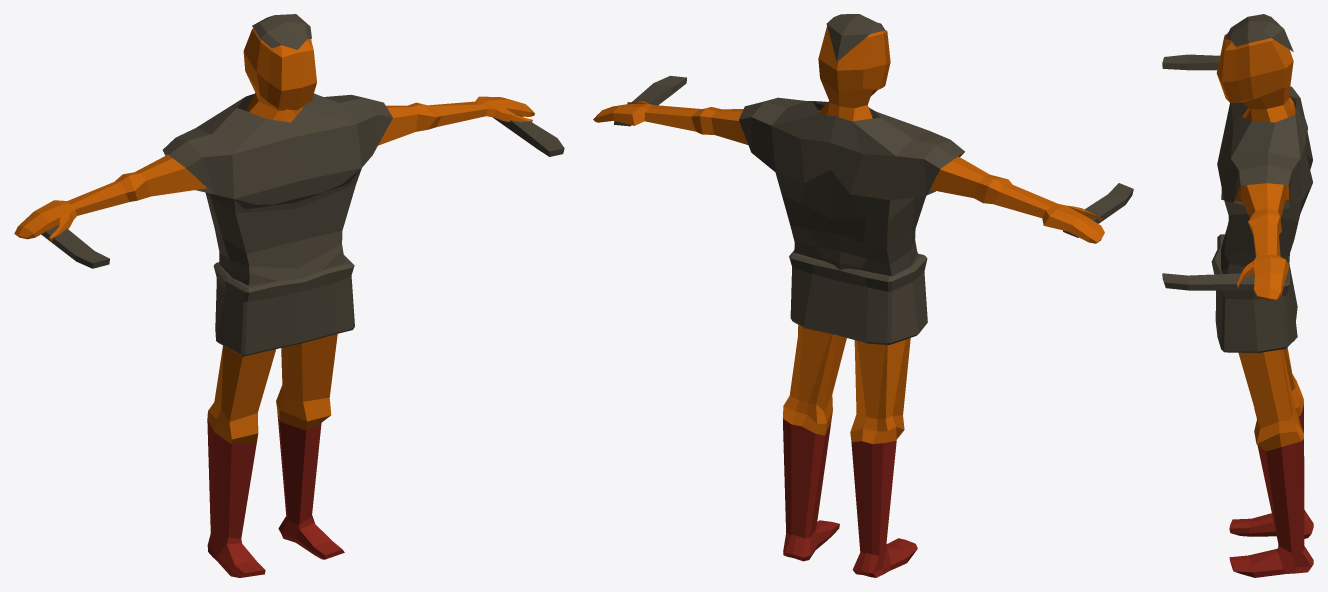
File: mergeHuman2.fbx
3 renders of one model, left to right at view 1: azimuth 30°, elevation 25°; view 2: azimuth 150°, elevation 25°; view 3: azimuth 270°, elevation 25°, orthographic. The views are drawn at different scales.
Parts seen in each view (by area): view 1: Cube; view 2: Cube; view 3: Cube.
Part boxes in pixels (box(x1,y1,x2,y2)): Cube: box(14, 14, 564, 577); Cube: box(593, 14, 1133, 577); Cube: box(1162, 14, 1313, 577).
Bounding box in the file's own units: 486 × 492 × 127.
